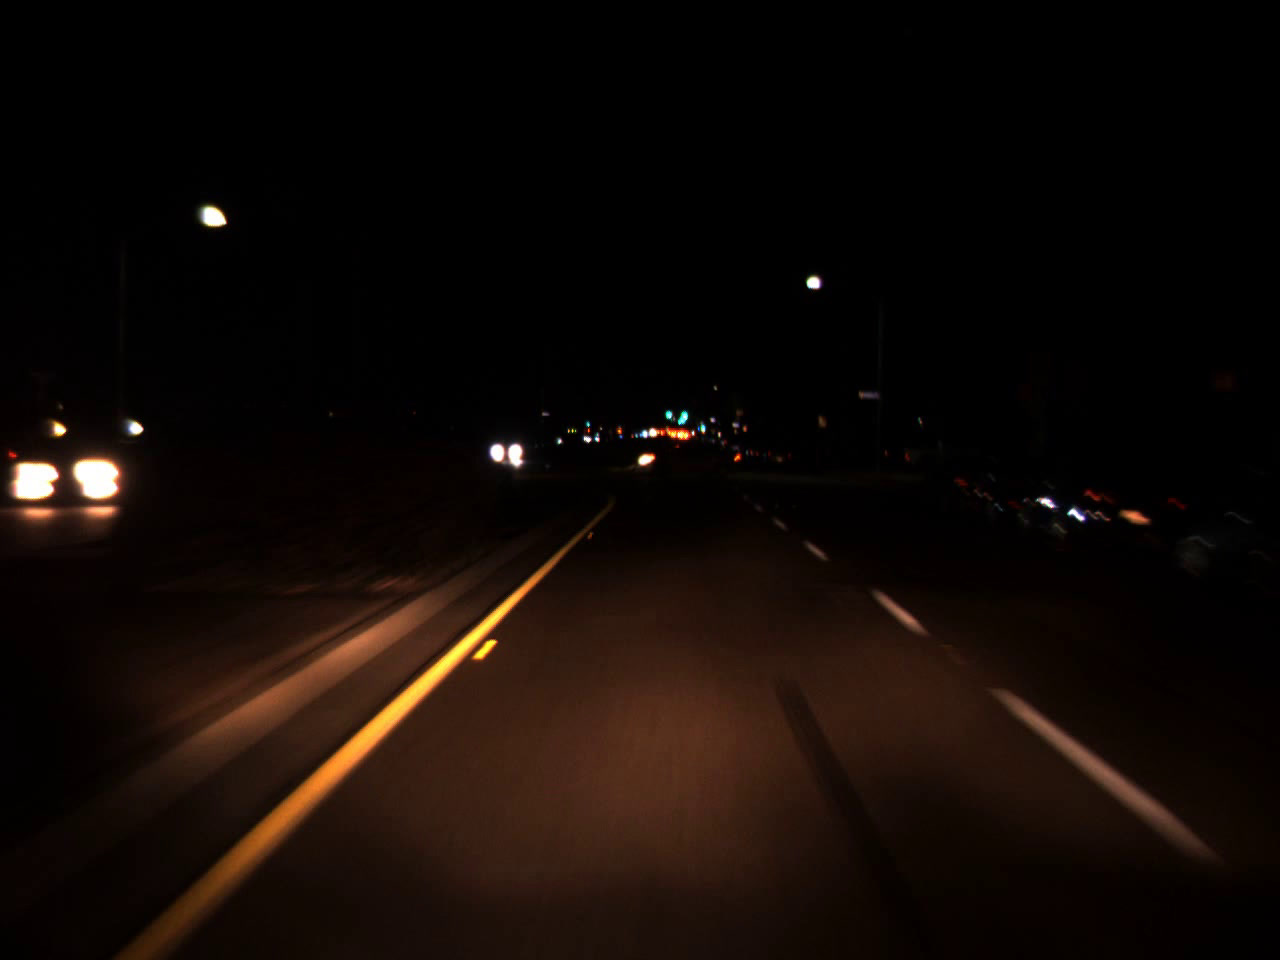go: (676, 401, 688, 422), (663, 401, 672, 422), (584, 416, 591, 428), (699, 421, 706, 433)
